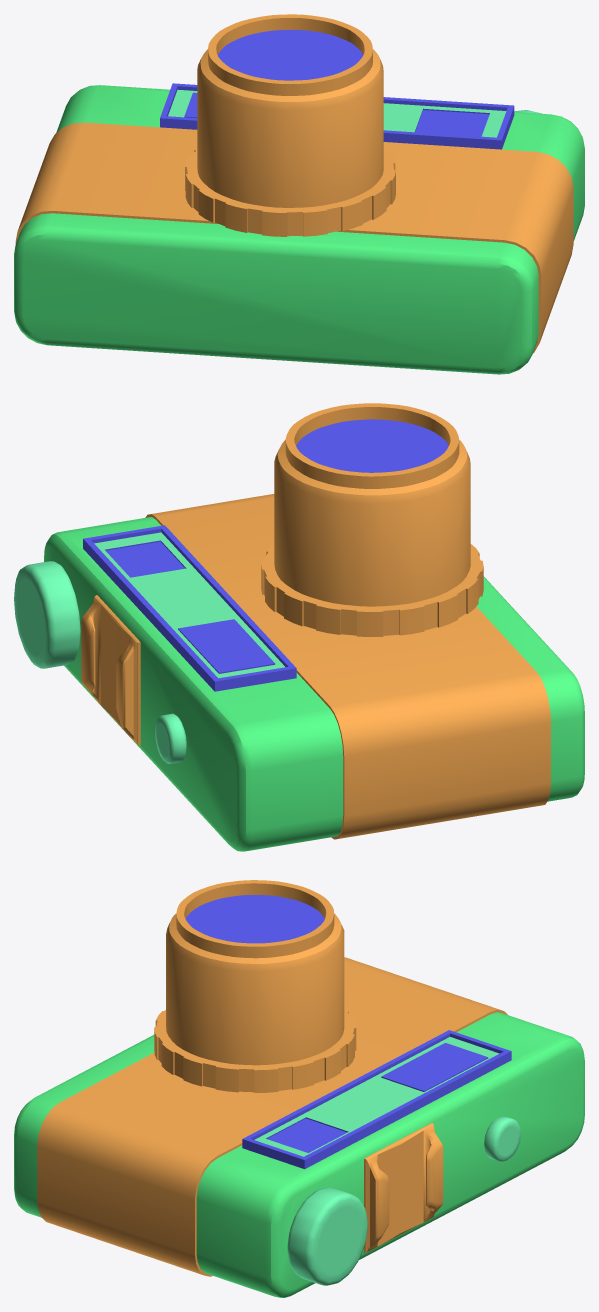
File: ToyObject_112.fbx
3 views of the same model, one above another, from view 1: azimuth 30°, elevation 25°; view 2: azimuth 150°, elevation 25°; view 3: azimuth 270°, elevation 25° (orthographic). The views are drawn at different scales.
Parts seen in each view (by area): view 1: 1.012; view 2: 1.012; view 3: 1.012.
Boxes of the visible parts, bbox=[...] form: 1.012: bbox=[14, 14, 584, 374]; 1.012: bbox=[14, 403, 584, 851]; 1.012: bbox=[14, 880, 584, 1297].
Bounding box in the file's own units: 0.202 × 0.095 × 0.1897.
